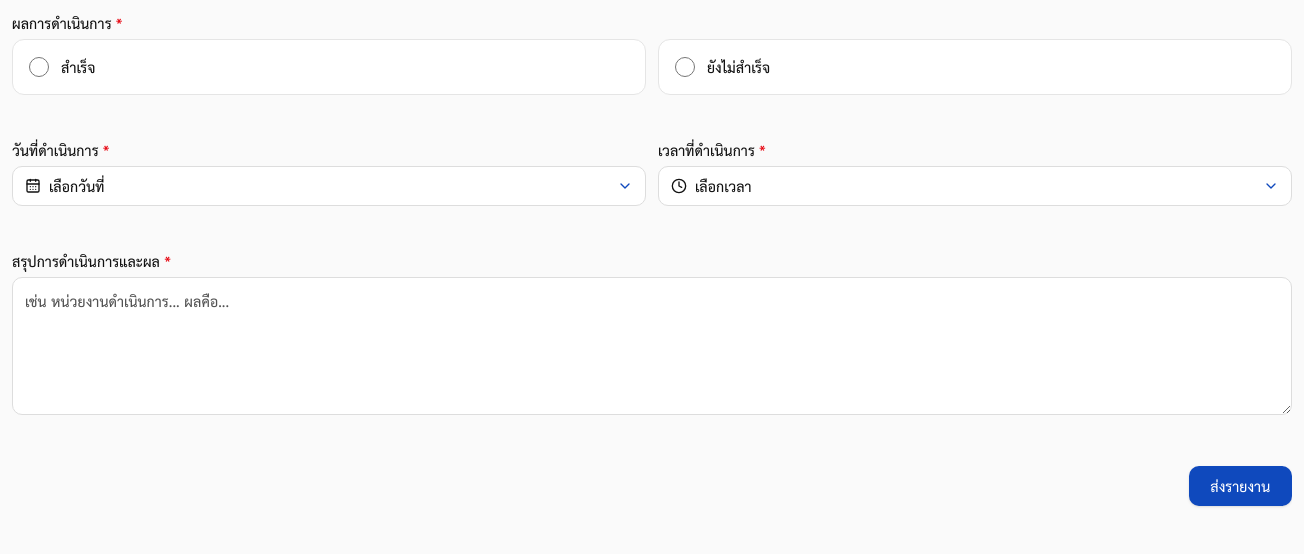
Test case: ReferralReportForm › clears a field's message once it is filled in
Click the button "ส่งรายงาน": x=1240, y=486 [1189,466,1292,506]
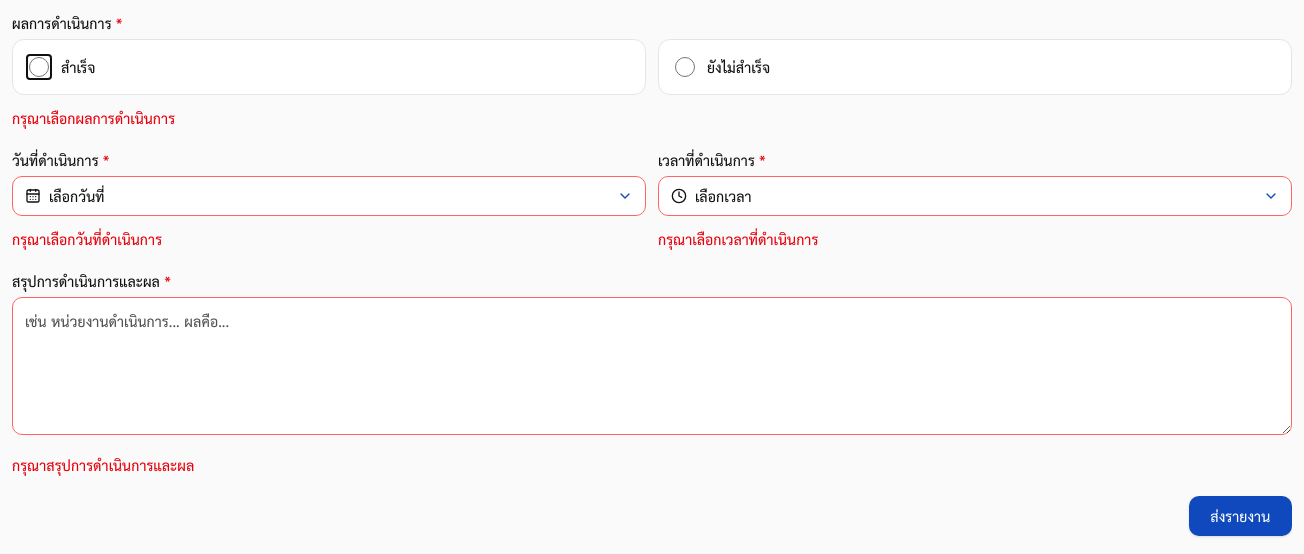
expect the text "กรุณาเลือกผลการดำเนินการ" is shown: met, box [12,106,175,129]
Click the radio button labelled "ยังไม่สำเร็จ": x=685, y=67 [675,57,695,77]
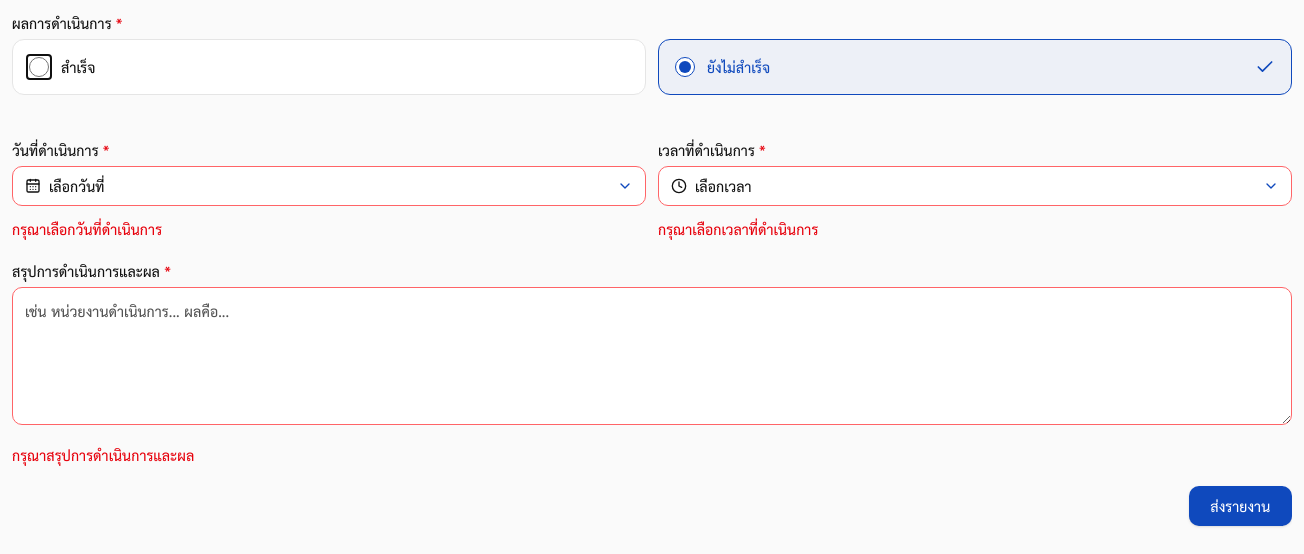
expect the text "กรุณาสรุปการดำเนินการและผล" is shown: met, box [12,443,194,466]
expect the text "กรุณาเลือกผลการดำเนินการ" is gone: met
